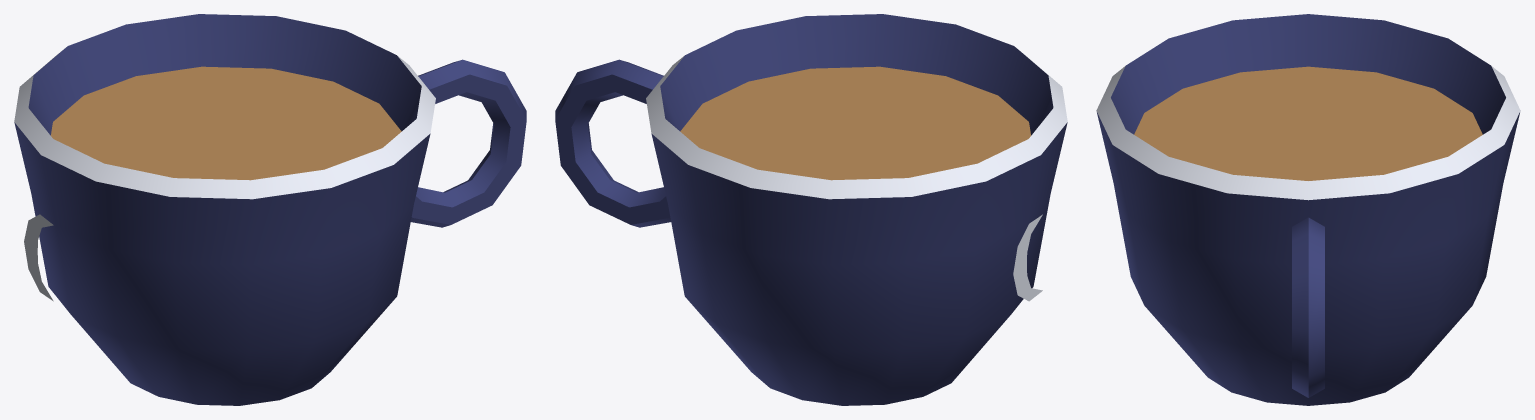
File: tea_luna_cup.glb
3 views of the same model, side by side, from view 1: azimuth 30°, elevation 25°; view 2: azimuth 150°, elevation 25°; view 3: azimuth 270°, elevation 25° (orthographic).
Visible parts, largest first — view 1: luna_Cup; view 2: luna_Cup; view 3: luna_Cup.
Part boxes in pixels (x1,y1,x2,y2): luna_Cup: (14,14,526,405); luna_Cup: (555,14,1067,405); luna_Cup: (1096,14,1520,405).
Size of the model in its own units: 0.0976 by 0.0505 by 0.074.
